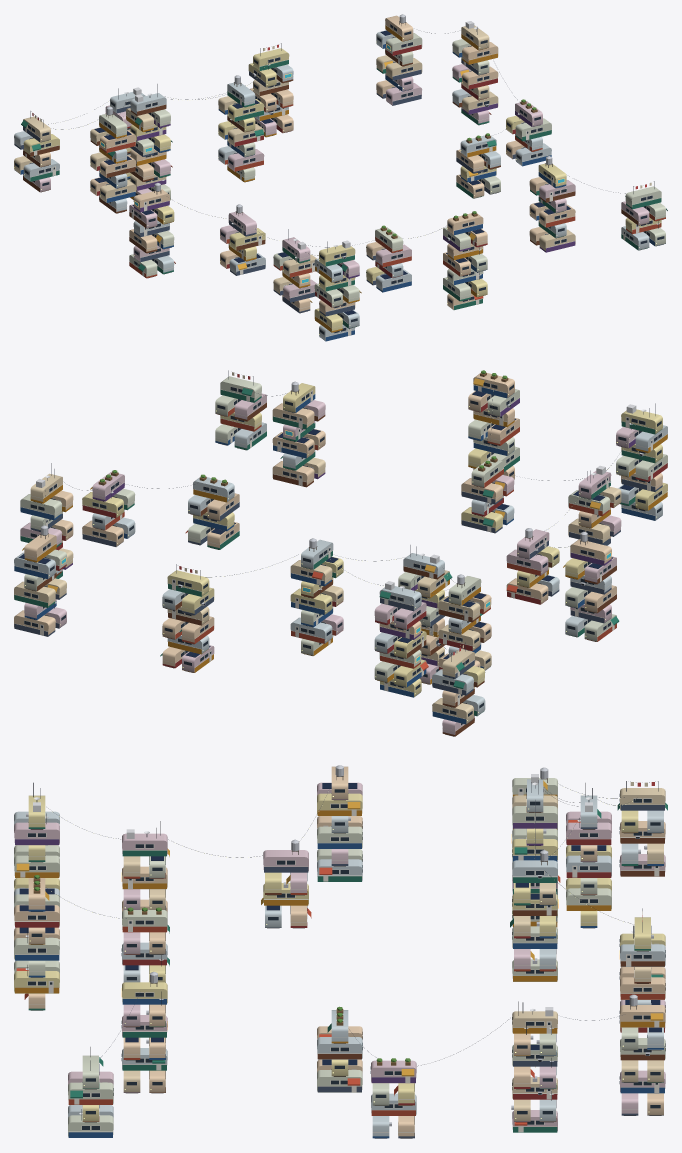
3 renders of one model, top to bottom at view 1: azimuth 30°, elevation 25°; view 2: azimuth 150°, elevation 25°; view 3: azimuth 270°, elevation 25°, orthographic. The views are drawn at different scales.
Parts seen in each view (by area): view 1: vertical_towers.lod0; view 2: vertical_towers.lod0; view 3: vertical_towers.lod0.
Part boxes in pixels (x1,y1,x2,y2): vertical_towers.lod0: [14, 14, 667, 341]; vertical_towers.lod0: [14, 370, 667, 736]; vertical_towers.lod0: [14, 765, 667, 1138].
Size of the model in its own units: 97.49 by 24 by 97.17.
